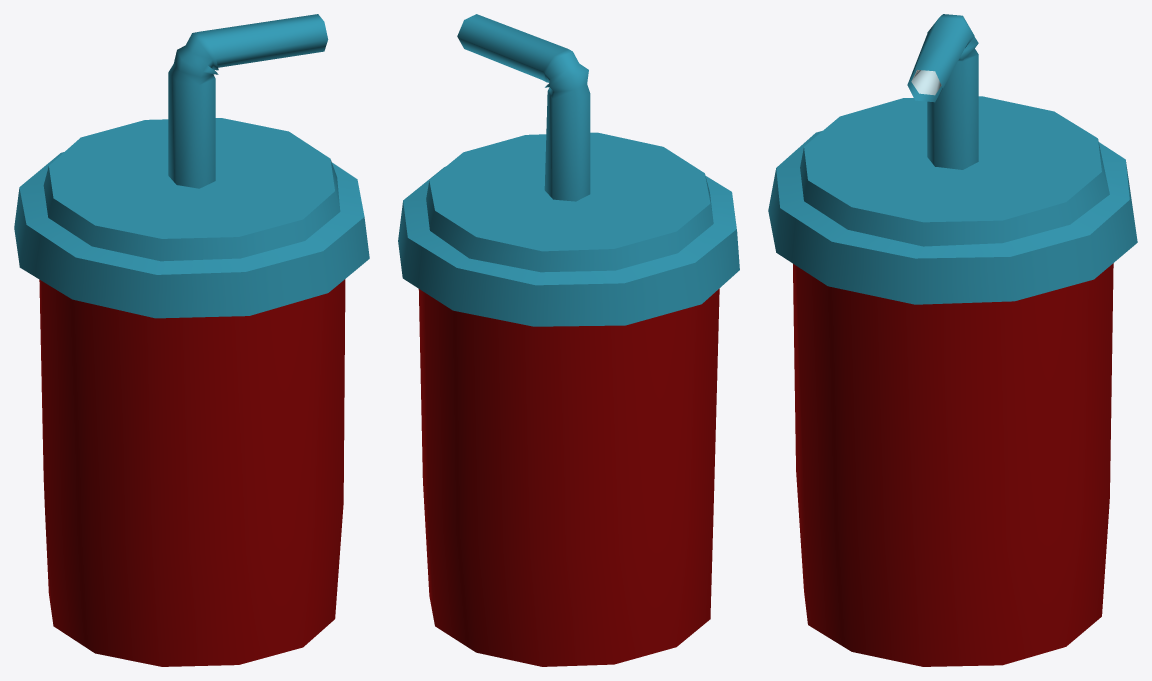
File: coke.obj
3 renders of one model, left to right at view 1: azimuth 30°, elevation 25°; view 2: azimuth 150°, elevation 25°; view 3: azimuth 270°, elevation 25°, orthographic. The views are drawn at different scales.
Visible parts, largest first — view 1: coke; view 2: coke; view 3: coke.
Part boxes in pixels (x1,y1,x2,y2): coke: (14,14,369,666); coke: (398,14,739,666); coke: (768,14,1137,666).
Size of the model in its own units: 0.93 by 1.65 by 0.93.
1 material, 1 textured.
